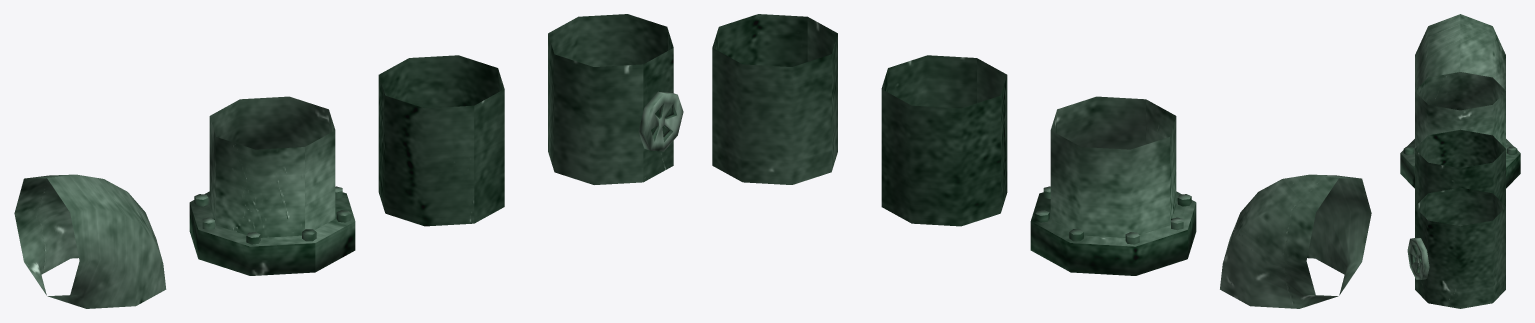
File: Pipes.glb
3 renders of one model, left to right at view 1: azimuth 30°, elevation 25°; view 2: azimuth 150°, elevation 25°; view 3: azimuth 270°, elevation 25°, orthographic. The views are drawn at different scales.
Parts seen in each view (by area): view 1: Cylinder, Cylinder.003, Cylinder.001, Cylinder.002; view 2: Cylinder, Cylinder.001, Cylinder.003, Cylinder.002; view 3: Cylinder.003, Cylinder, Cylinder.001, Cylinder.002.
Part boxes in pixels (x1=…): Cylinder: x1=189, y1=96, x2=355, y2=275; Cylinder.003: x1=548, y1=14, x2=683, y2=184; Cylinder.001: x1=378, y1=55, x2=504, y2=226; Cylinder.002: x1=14, y1=174, x2=166, y2=308; Cylinder: x1=1030, y1=96, x2=1196, y2=275; Cylinder.001: x1=881, y1=55, x2=1007, y2=226; Cylinder.003: x1=712, y1=14, x2=837, y2=184; Cylinder.002: x1=1220, y1=174, x2=1371, y2=308; Cylinder.003: x1=1407, y1=187, x2=1505, y2=308; Cylinder: x1=1400, y1=72, x2=1520, y2=188; Cylinder.001: x1=1415, y1=129, x2=1505, y2=206; Cylinder.002: x1=1415, y1=14, x2=1505, y2=90.
Bounding box in the file's own units: 11 × 2 × 2.63.
Materials: 1 (1 with a texture image).
